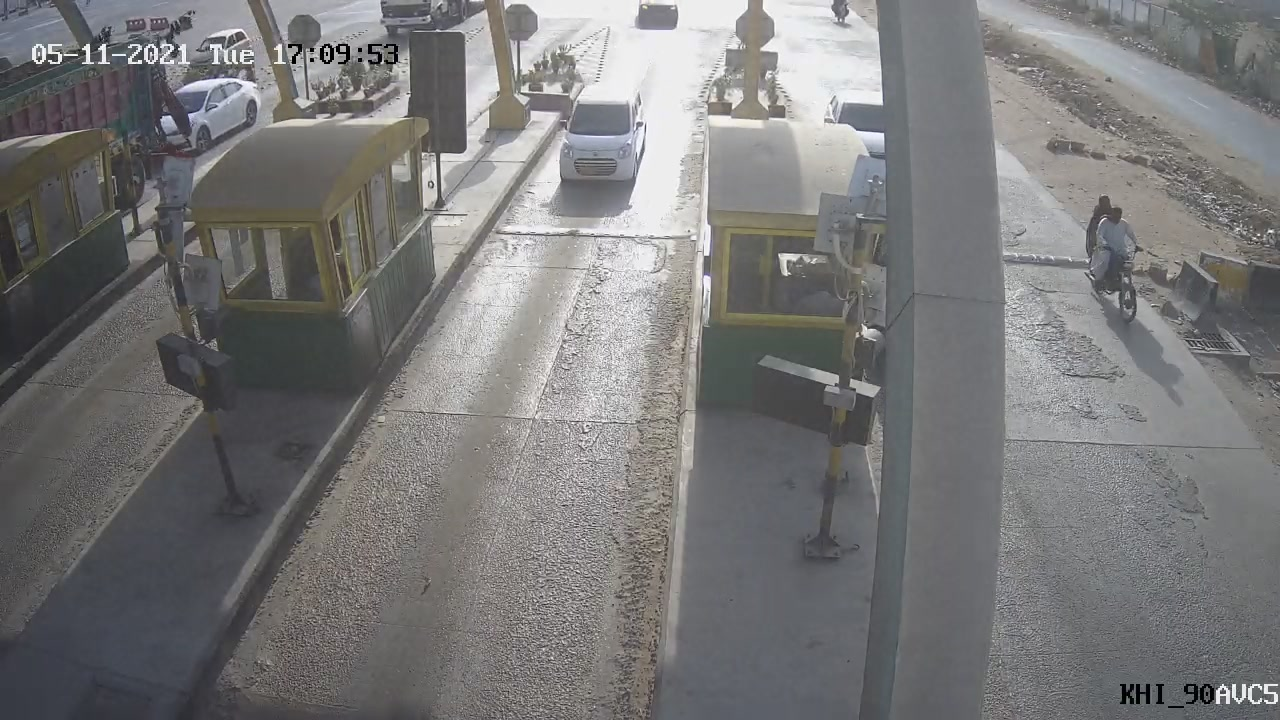F1: (533, 69, 663, 200)
